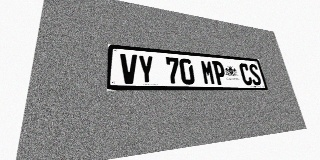0: (179, 58, 195, 85)
7: (165, 57, 181, 84)
C: (238, 63, 253, 85)
M: (200, 60, 216, 85)
P: (212, 61, 227, 85)
S: (248, 64, 262, 85)
V: (120, 53, 138, 84)
Y: (138, 55, 155, 84)
